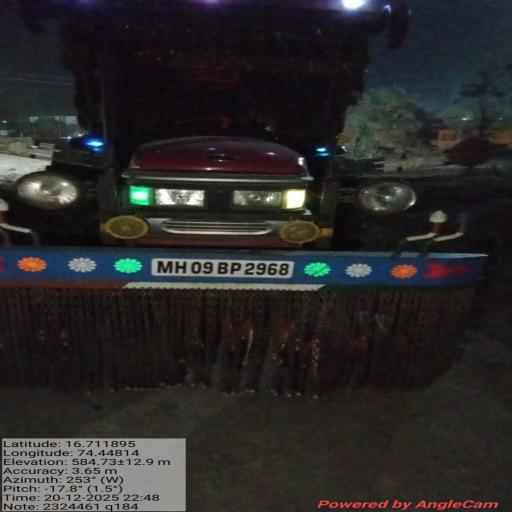number_plate: (152, 259, 294, 278)
